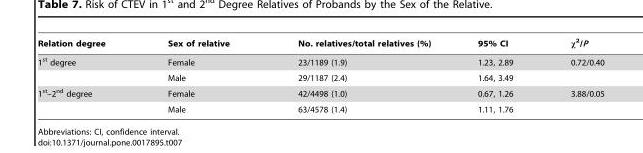table: (37, 37, 603, 113)
table column: (263, 37, 453, 113), (135, 37, 263, 113), (37, 37, 135, 113), (453, 37, 541, 113), (541, 37, 603, 113)
table column header: (37, 37, 603, 51)
table row: (37, 51, 603, 69), (37, 84, 603, 101), (37, 69, 603, 84), (37, 37, 603, 51), (37, 101, 603, 113)
table spanning cell: (37, 51, 135, 84), (37, 84, 135, 113)
